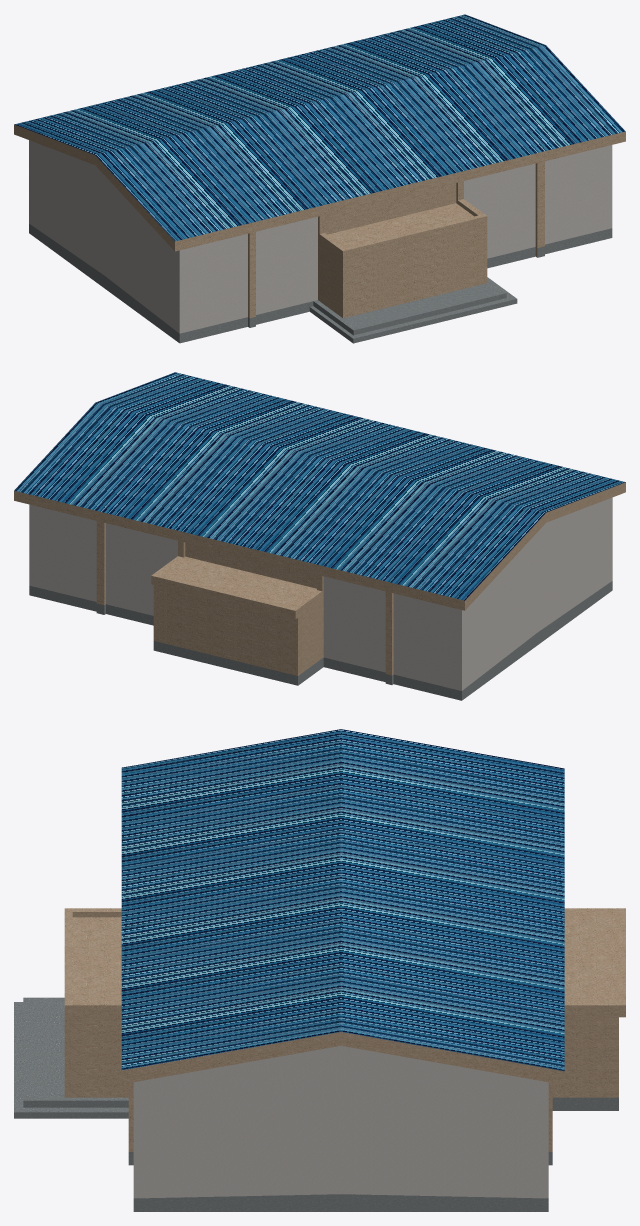
Rendered from budo.fbx.
3 renders of one model, top to bottom at view 1: azimuth 30°, elevation 25°; view 2: azimuth 150°, elevation 25°; view 3: azimuth 270°, elevation 25°, orthographic. The views are drawn at different scales.
Parts seen in each view (by area): view 1: Cube; view 2: Cube; view 3: Cube.
Part boxes in pixels (left/top/right/bottom): Cube: left=14, top=14, right=625, bottom=343; Cube: left=14, top=372, right=625, bottom=700; Cube: left=14, top=729, right=625, bottom=1211.
Bounding box in the file's own units: 1524 × 437 × 1302.
